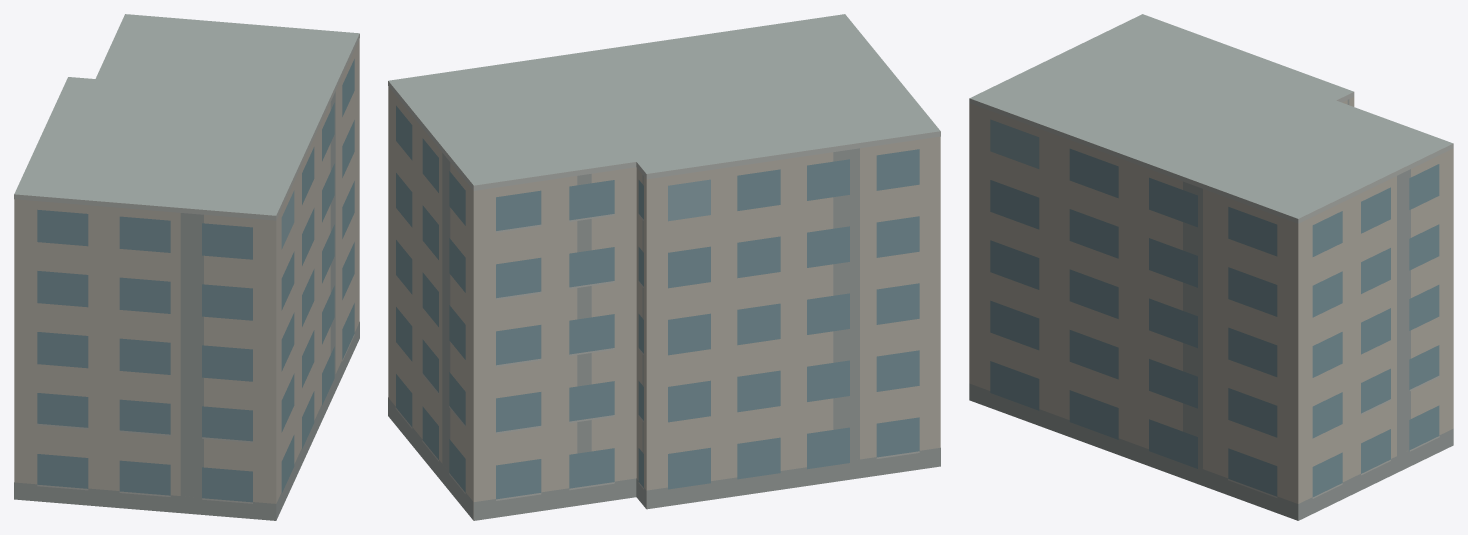
Rendered from residential-cb589ffd-2131-4527-bae0-c2fea863a229.glb.
3 renders of one model, left to right at view 1: azimuth 30°, elevation 25°; view 2: azimuth 150°, elevation 25°; view 3: azimuth 270°, elevation 25°, orthographic. The views are drawn at different scales.
Parts seen in each view (by area): view 1: residential-cb589ffd-2131-4527-bae0-c2fea863a229.tmp; view 2: residential-cb589ffd-2131-4527-bae0-c2fea863a229.tmp; view 3: residential-cb589ffd-2131-4527-bae0-c2fea863a229.tmp.
Boxes of the visible parts, left/top/right/bottom form: residential-cb589ffd-2131-4527-bae0-c2fea863a229.tmp: left=14, top=14, right=359, bottom=520; residential-cb589ffd-2131-4527-bae0-c2fea863a229.tmp: left=388, top=14, right=940, bottom=520; residential-cb589ffd-2131-4527-bae0-c2fea863a229.tmp: left=969, top=14, right=1453, bottom=520.
Size of the model in its own units: 22.2 by 15.25 by 22.16.
